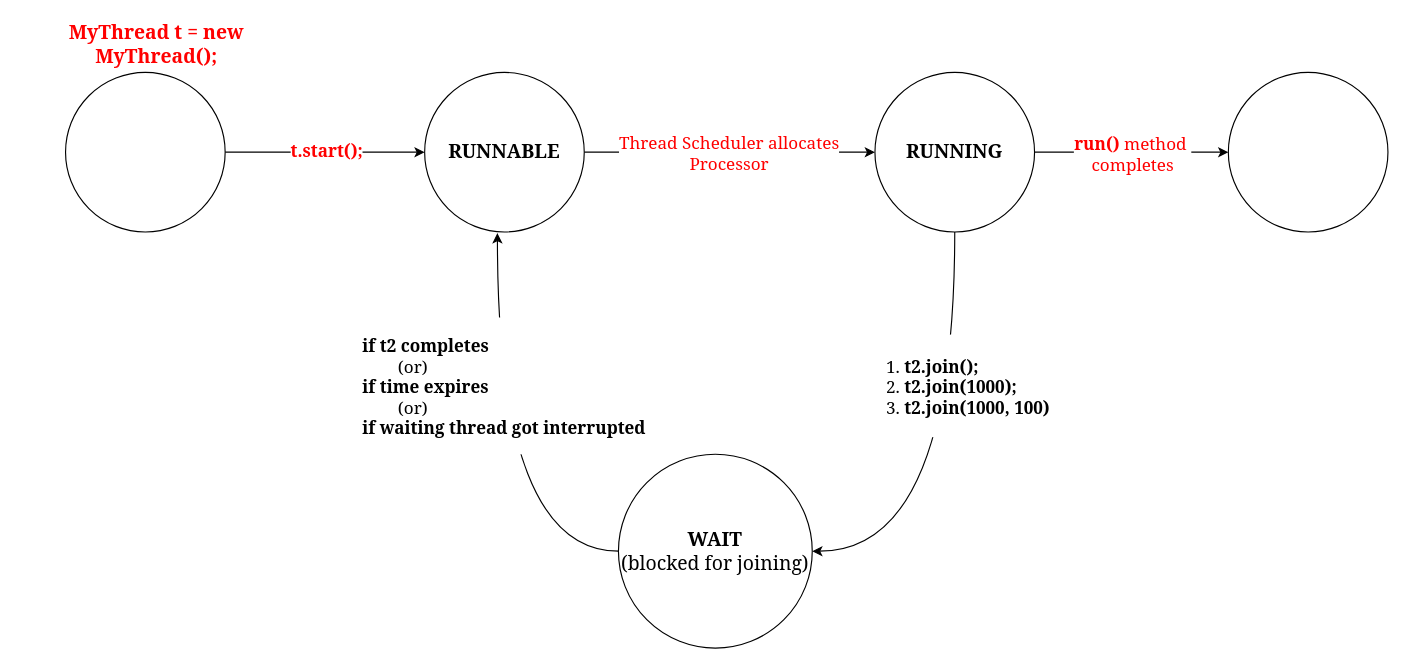
Image size: 1408x668. Some labels were removed from this diagram. Here are the shapes that lost their labels. From the top down, the centre of each, then its label:
At point (144, 151): "NEW".
At point (1307, 151): "TERMINATED".
